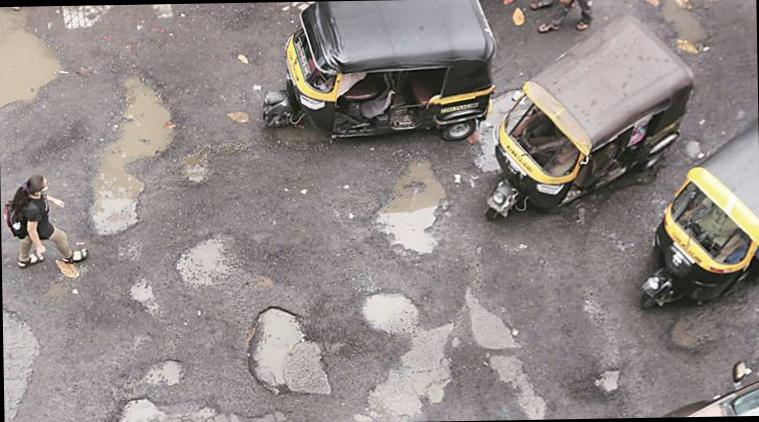pothole: (68, 53, 188, 248), (344, 140, 468, 270), (228, 290, 337, 400), (345, 316, 458, 422), (163, 194, 270, 301), (463, 78, 541, 180), (0, 5, 68, 117), (613, 0, 721, 60), (100, 391, 296, 422), (468, 356, 562, 419), (1, 299, 45, 422), (458, 286, 534, 354), (350, 281, 427, 346), (252, 108, 337, 154), (652, 303, 714, 365), (113, 264, 163, 329), (132, 347, 193, 392), (170, 140, 216, 192), (584, 360, 632, 402), (681, 130, 705, 166)
